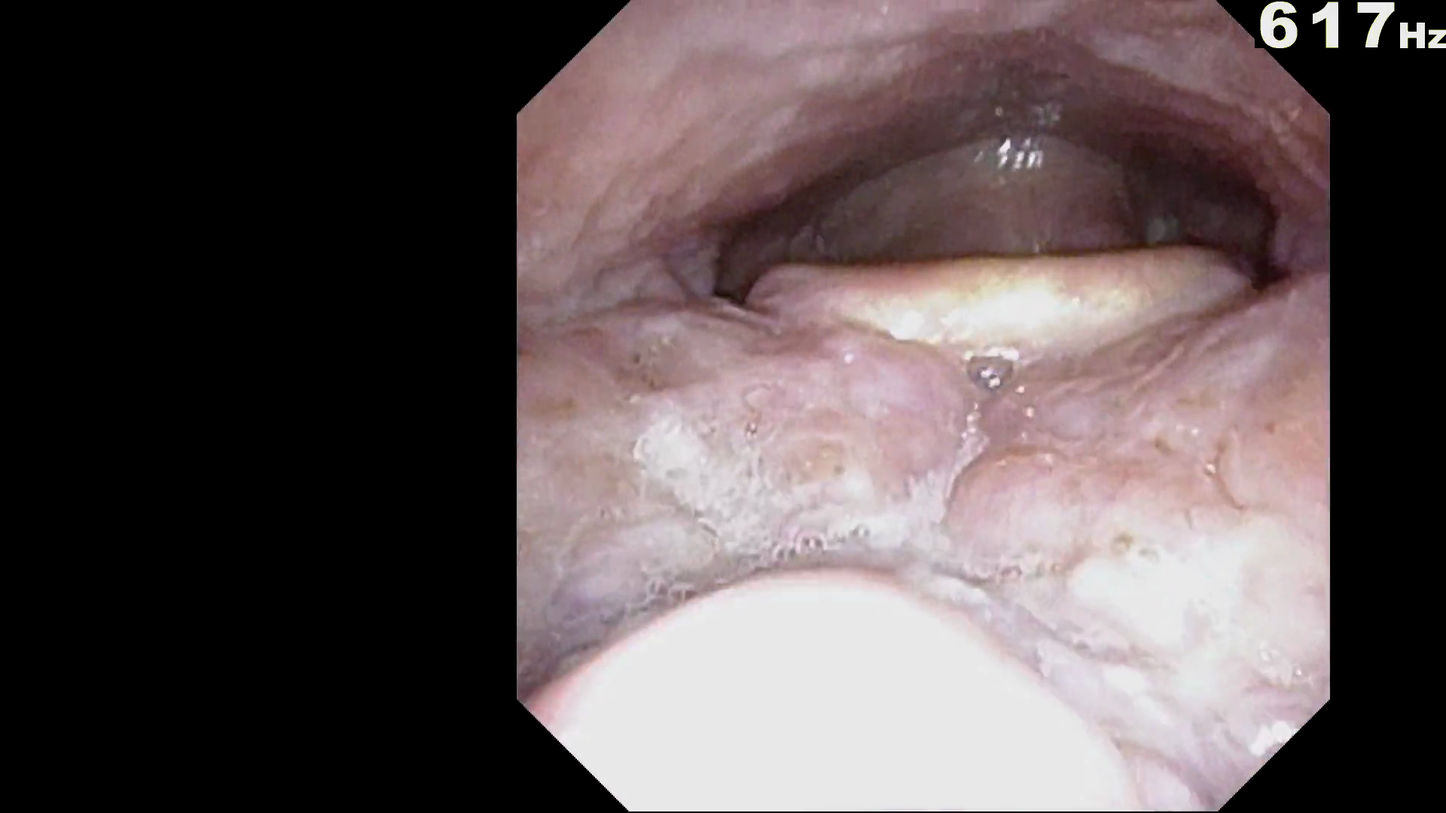epiglottis: (743, 216, 1266, 416)
trachea: (948, 197, 1055, 302)
